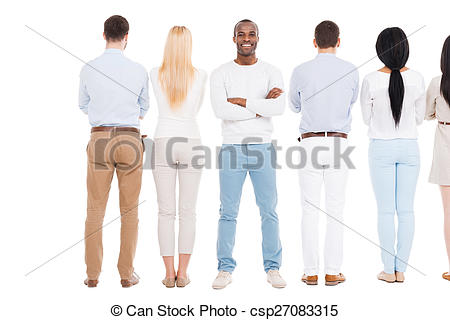person: (289, 18, 354, 155), (365, 21, 436, 140), (215, 14, 283, 127)
